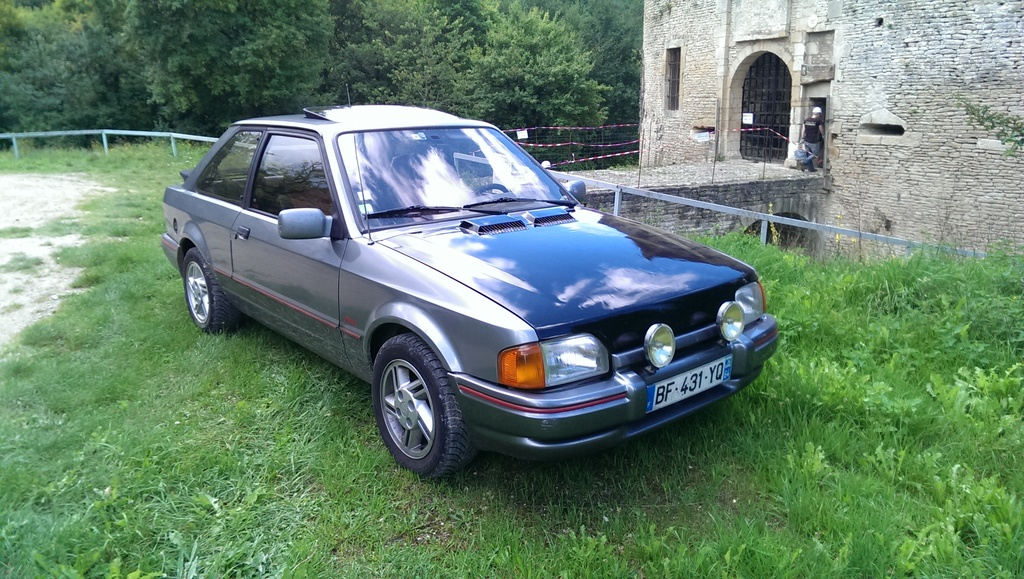Car: (157, 77, 781, 483)
